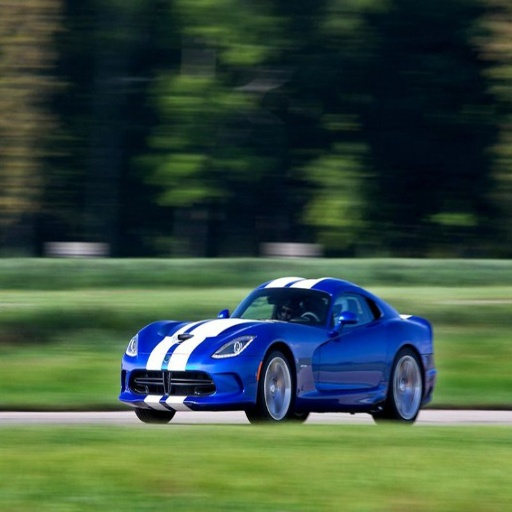front_glass: (241, 287, 317, 318)
front_left_door: (308, 290, 368, 393)
